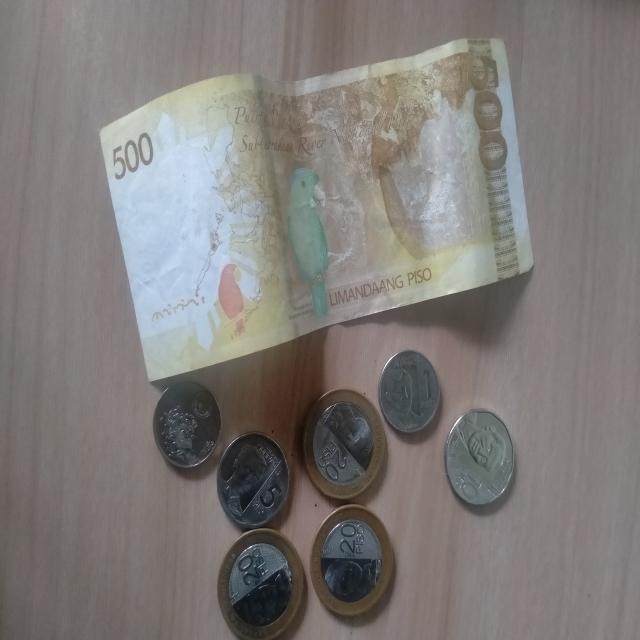10_New_Front: (451, 468, 485, 503)
1_New_Front: (413, 359, 436, 408)
20_New_Front: (230, 541, 272, 590), (316, 434, 357, 484), (330, 521, 375, 563)
5_New_Front: (247, 472, 282, 521)
